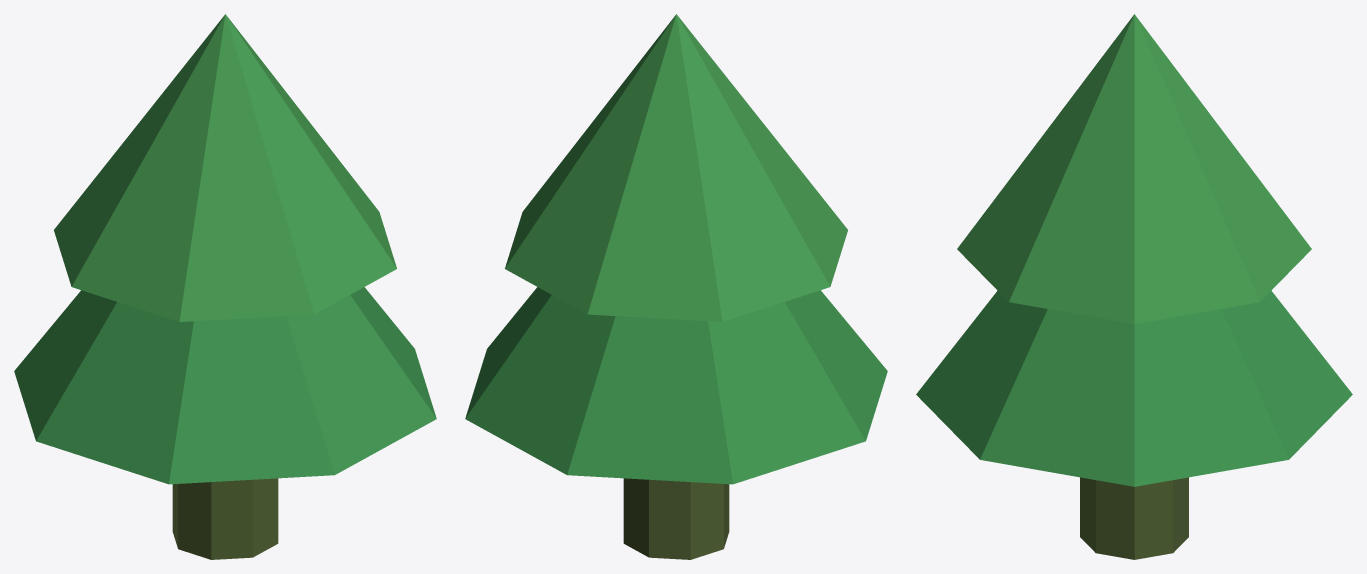
The model's file is tree.glb.
3 renders of one model, left to right at view 1: azimuth 30°, elevation 25°; view 2: azimuth 150°, elevation 25°; view 3: azimuth 270°, elevation 25°, orthographic.
Visible parts, largest first — view 1: tree; view 2: tree; view 3: tree.
Part boxes in pixels (x1,y1,x2,y2): tree: (14,14,436,559); tree: (465,14,887,559); tree: (916,14,1352,559).
Bounding box in the file's own units: 0.64 × 0.845 × 0.64.
